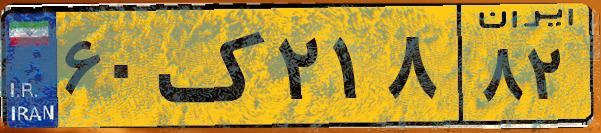0: (110, 28, 158, 98)
1: (330, 28, 385, 110)
2: (270, 28, 330, 110), (525, 38, 570, 115)
6: (57, 26, 110, 100)
8: (385, 28, 445, 110), (475, 38, 525, 113)
ک: (158, 12, 270, 120)
